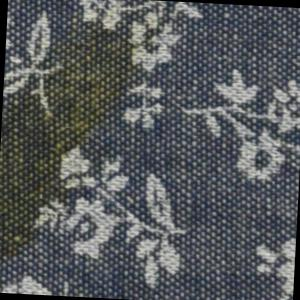Oil Stain: (1, 19, 155, 281)
